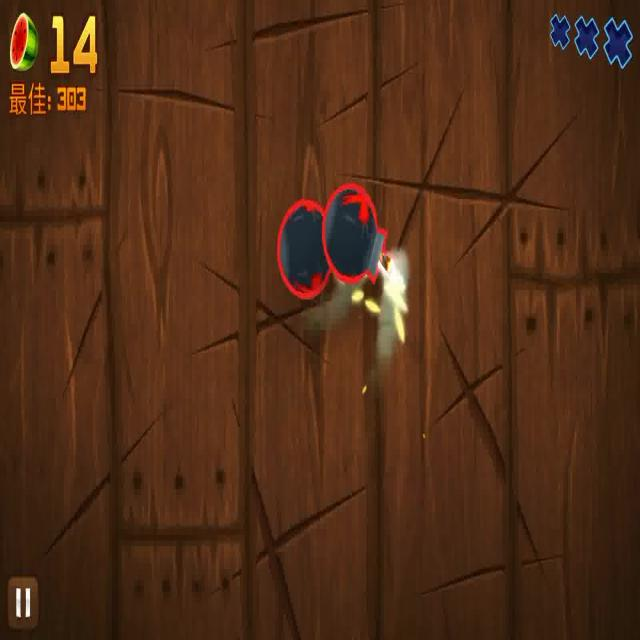bomb: (324, 140, 416, 351), (276, 170, 326, 304)
